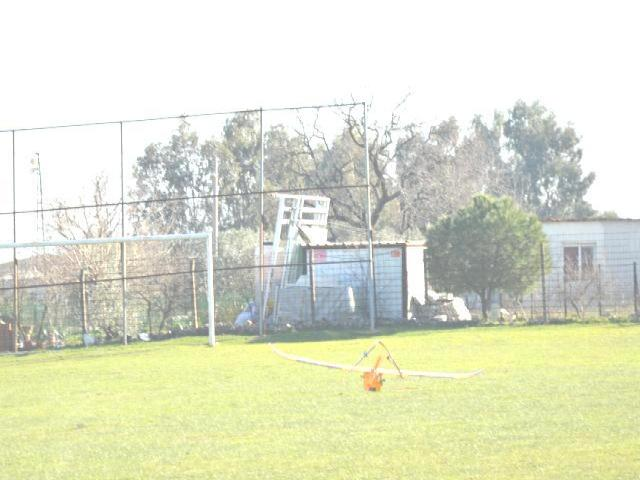iha: (263, 334, 485, 398)
